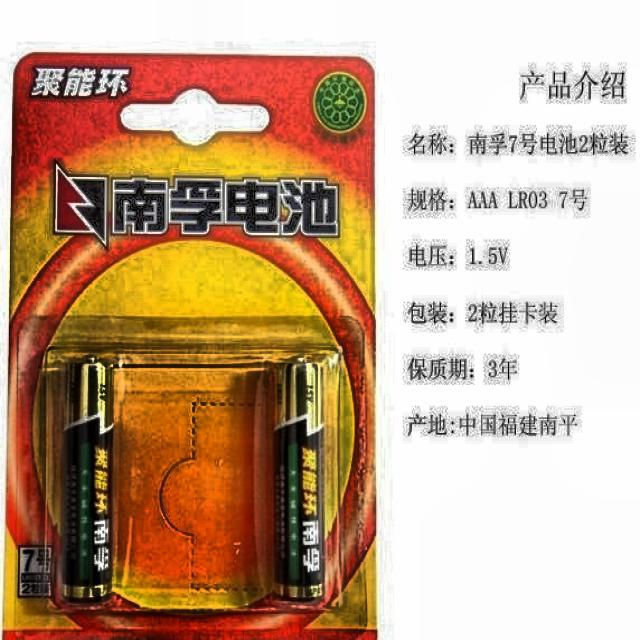Non-Valuable Waste - Batteries: (62, 359, 112, 602), (275, 362, 324, 599)
